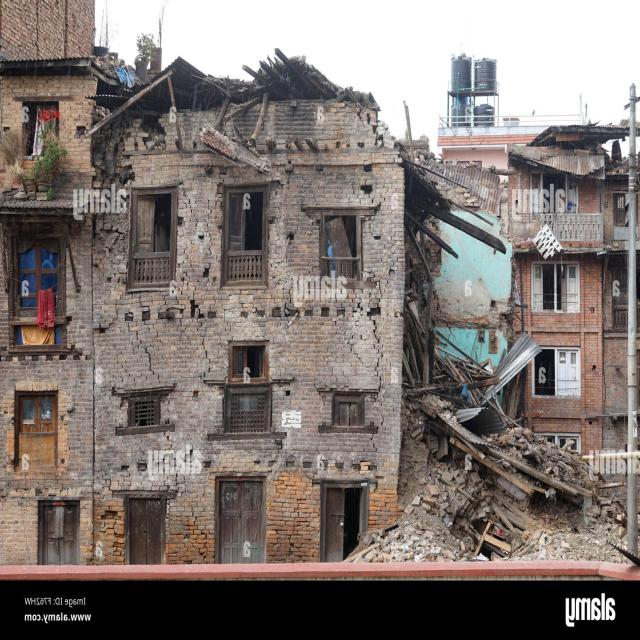Destroyed_building: (0, 0, 639, 577)
